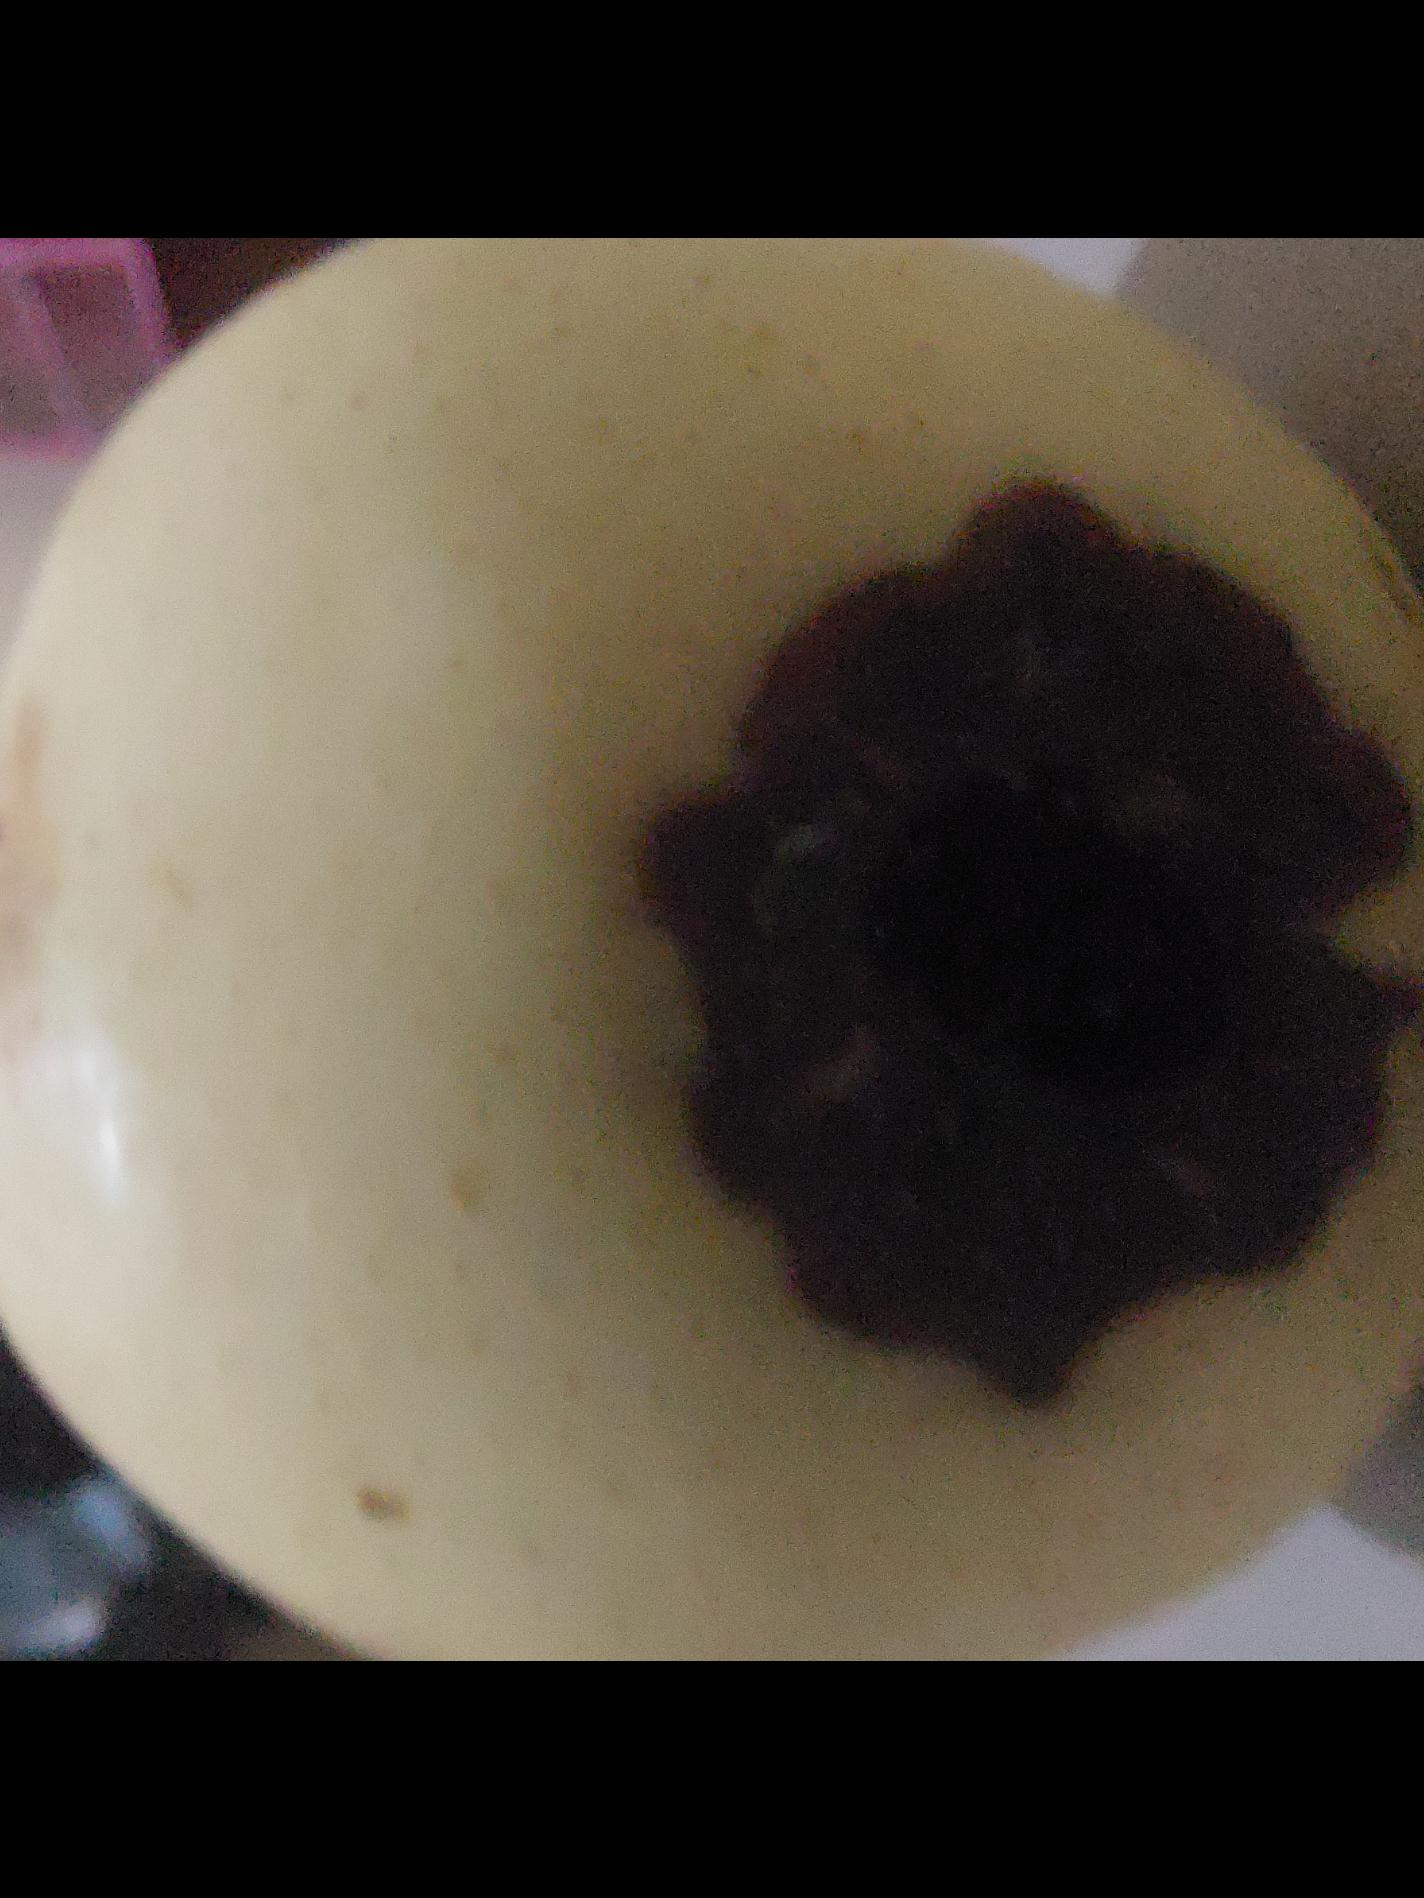Bad Pear: (254, 348, 1424, 1535)
